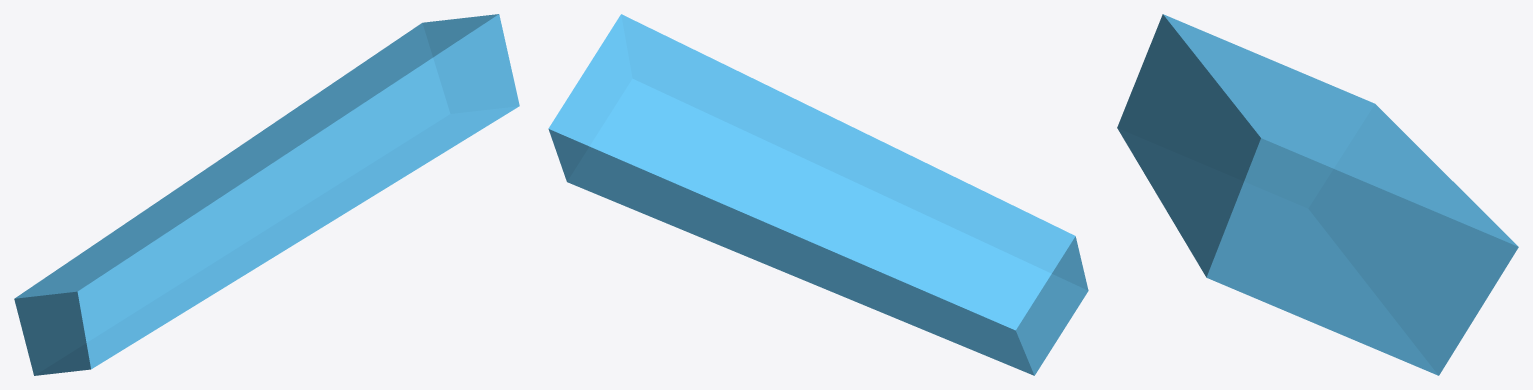
Rendered from Event_421115418_HErechit_44.fbx.
3 views of the same model, side by side, from view 1: azimuth 30°, elevation 25°; view 2: azimuth 150°, elevation 25°; view 3: azimuth 270°, elevation 25° (orthographic). The views are drawn at different scales.
Parts seen in each view (by area): view 1: Model; view 2: Model; view 3: Model.
Boxes of the visible parts, x1=… form: Model: x1=14, y1=14, x2=519, y2=375; Model: x1=548, y1=14, x2=1088, y2=375; Model: x1=1117, y1=14, x2=1518, y2=375.
Size of the model in its own units: 2.2 by 1.21 by 1.
